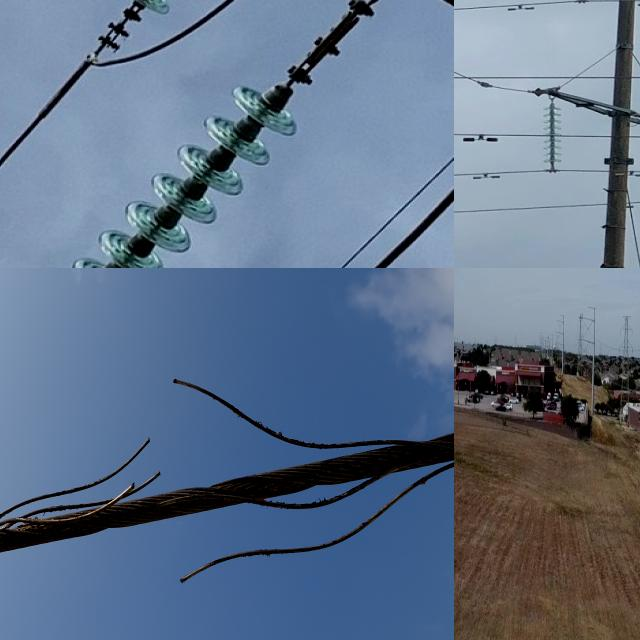杆塔: (616, 310, 636, 430), (575, 309, 586, 380)
正常绝缘子: (47, 0, 389, 268), (41, 0, 175, 90), (538, 93, 566, 176), (630, 345, 634, 360), (618, 327, 623, 338), (617, 345, 621, 358), (630, 326, 634, 338)
电缆破损: (0, 348, 454, 594)
